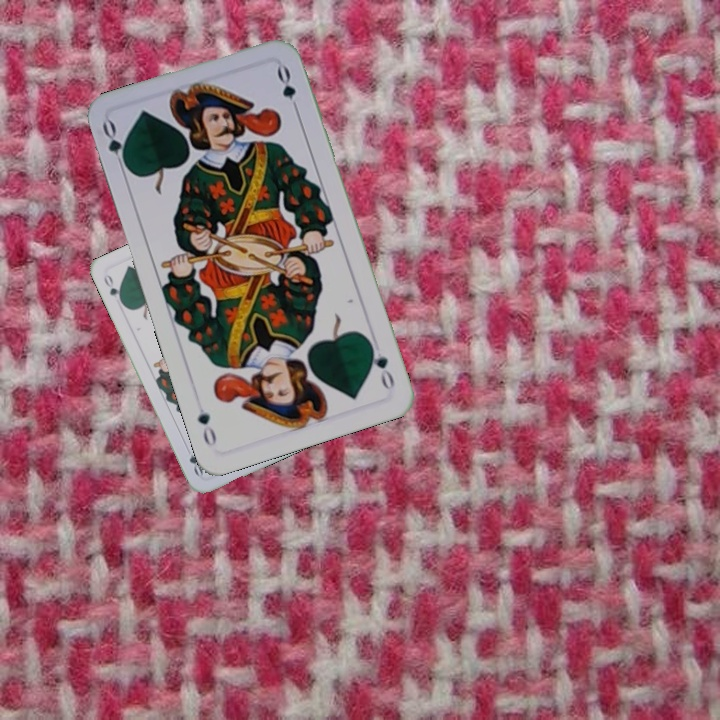GO: (98, 117, 132, 175), (365, 337, 397, 393), (100, 270, 126, 307)
